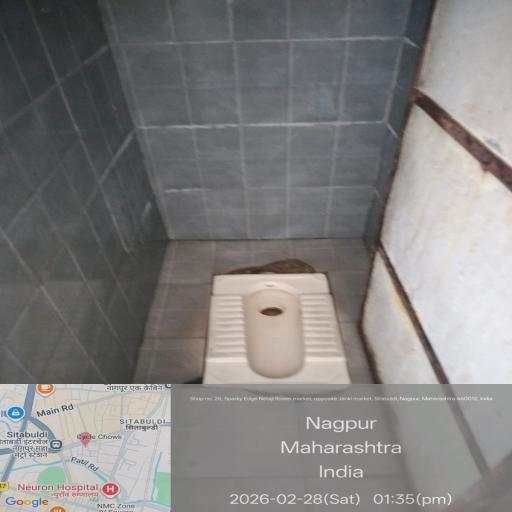clean_floor: (0, 8, 471, 224), (8, 239, 170, 510)
clean_western: (182, 248, 360, 408)
